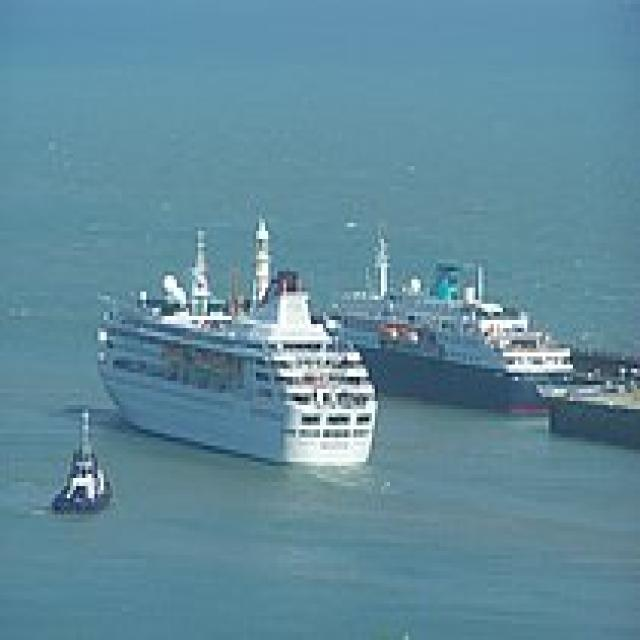Cruise: (91, 210, 375, 466), (311, 227, 573, 417)
